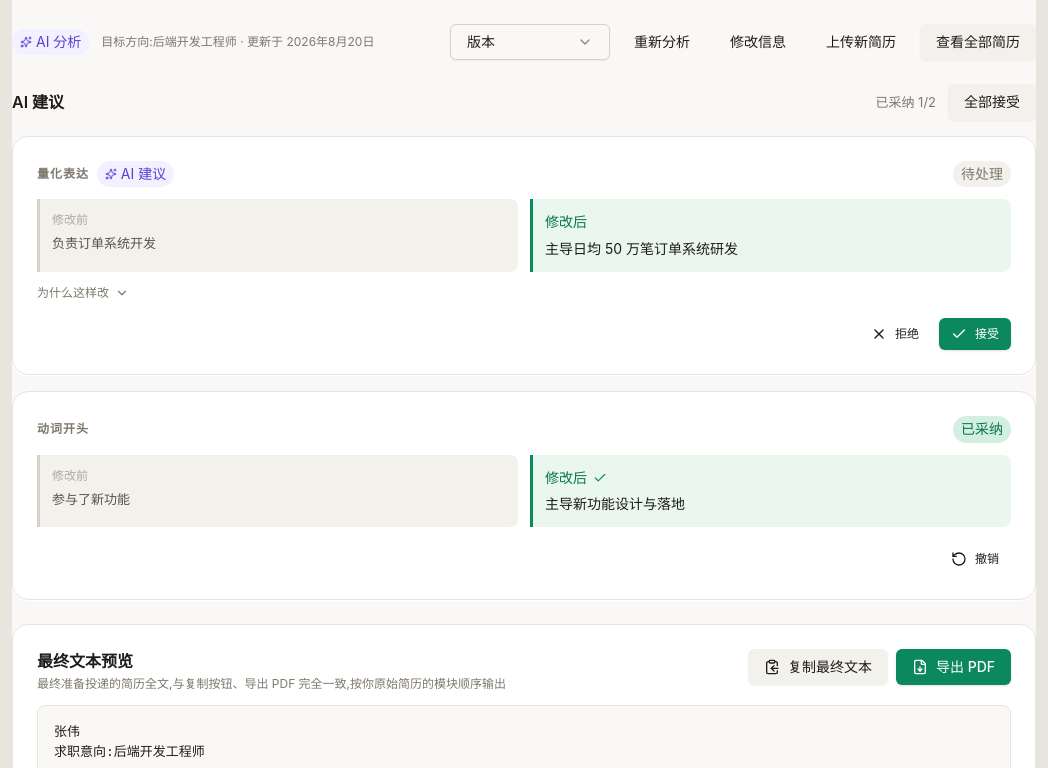
Test: ResumeResult 结果视图 › 剪贴板与 execCommand 均失败:错误 toast,不记埋点
The width and height of the screenshot is (1048, 768).
Click the button "复制最终文本".
click(818, 667)  # box [748,649,888,685]
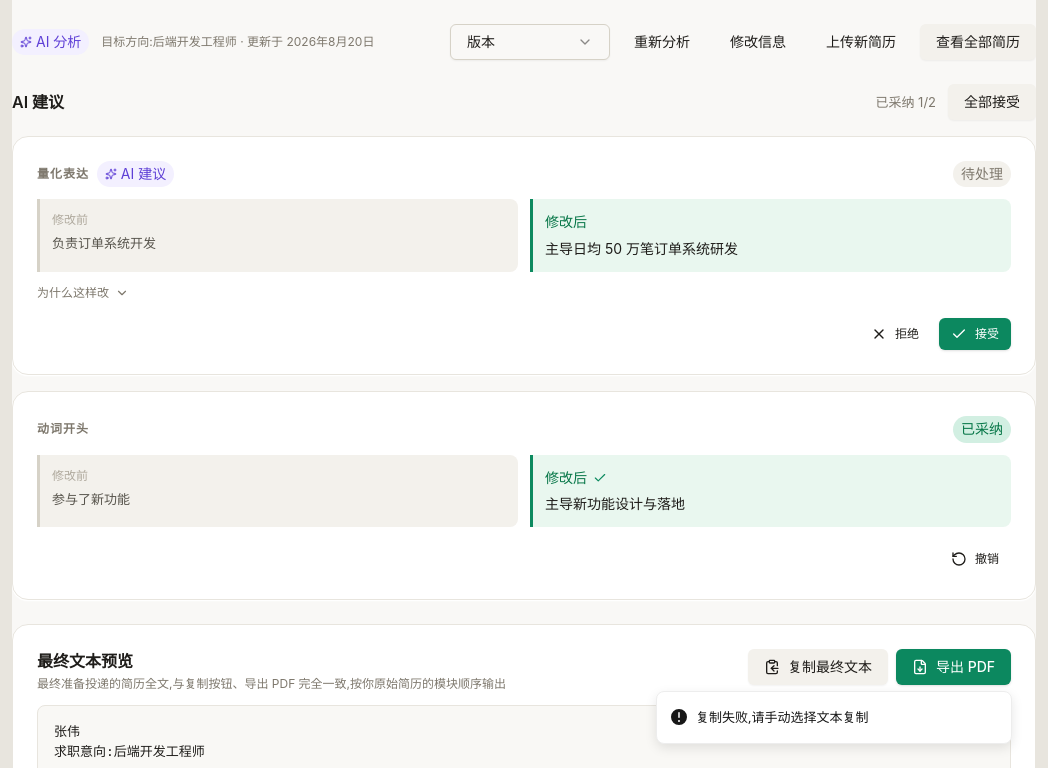
Expected: the text "复制失败,请手动选择文本复制" is shown, [696,708,868,727]
